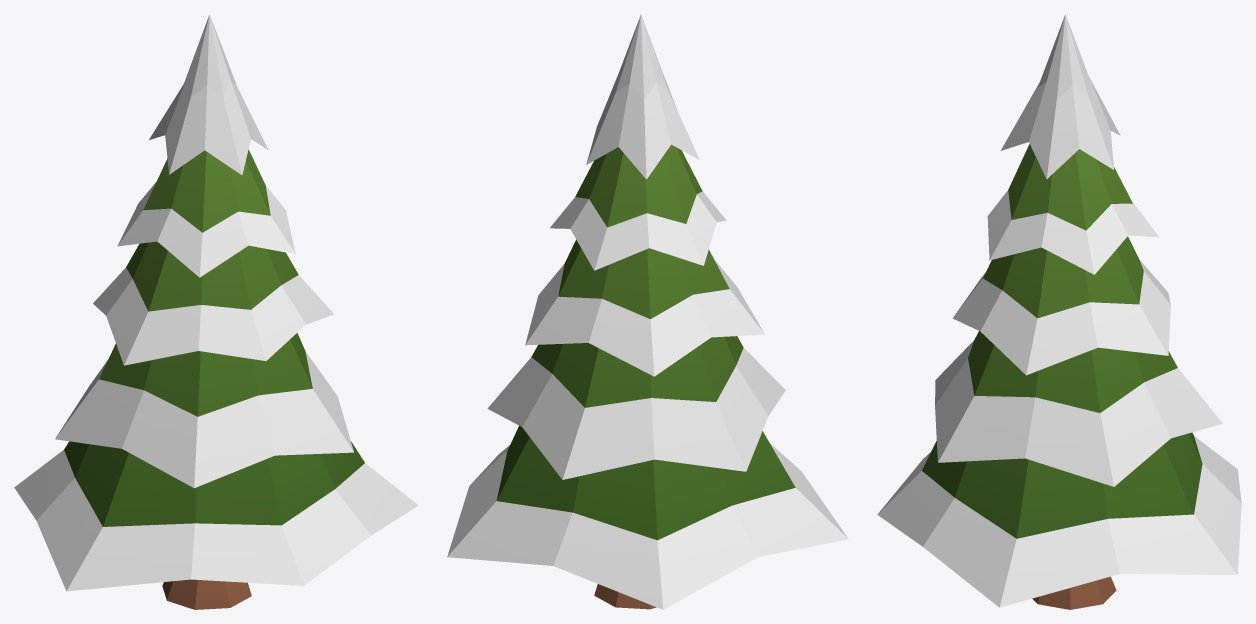
File: fir tree winter large.fbx
3 renders of one model, left to right at view 1: azimuth 30°, elevation 25°; view 2: azimuth 150°, elevation 25°; view 3: azimuth 270°, elevation 25°, orthographic.
Parts seen in each view (by area): view 1: fir tree winter large; view 2: fir tree winter large; view 3: fir tree winter large.
Boxes of the visible parts, x1,y1,x2,y2 form: fir tree winter large: [14, 14, 418, 609]; fir tree winter large: [447, 14, 848, 609]; fir tree winter large: [877, 14, 1241, 609].
Bounding box in the file's own units: 509 × 799 × 458.
